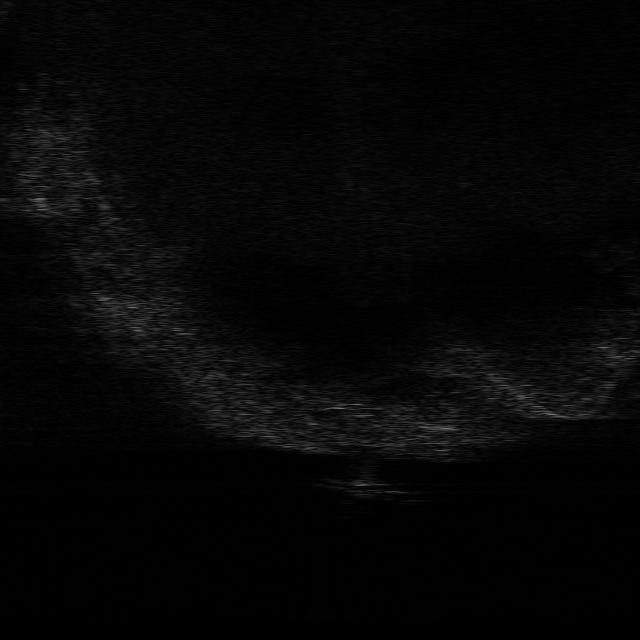plane: (315, 465, 417, 501)
